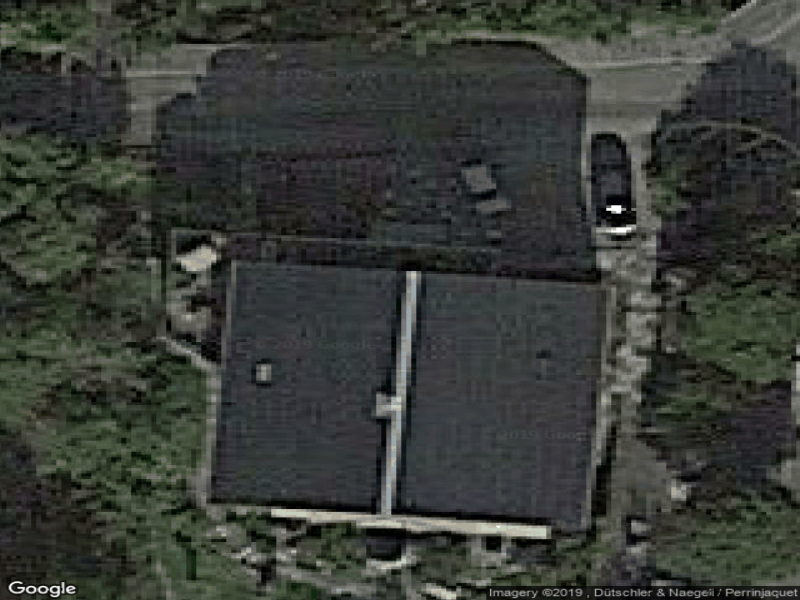pv: (213, 267, 603, 525)
